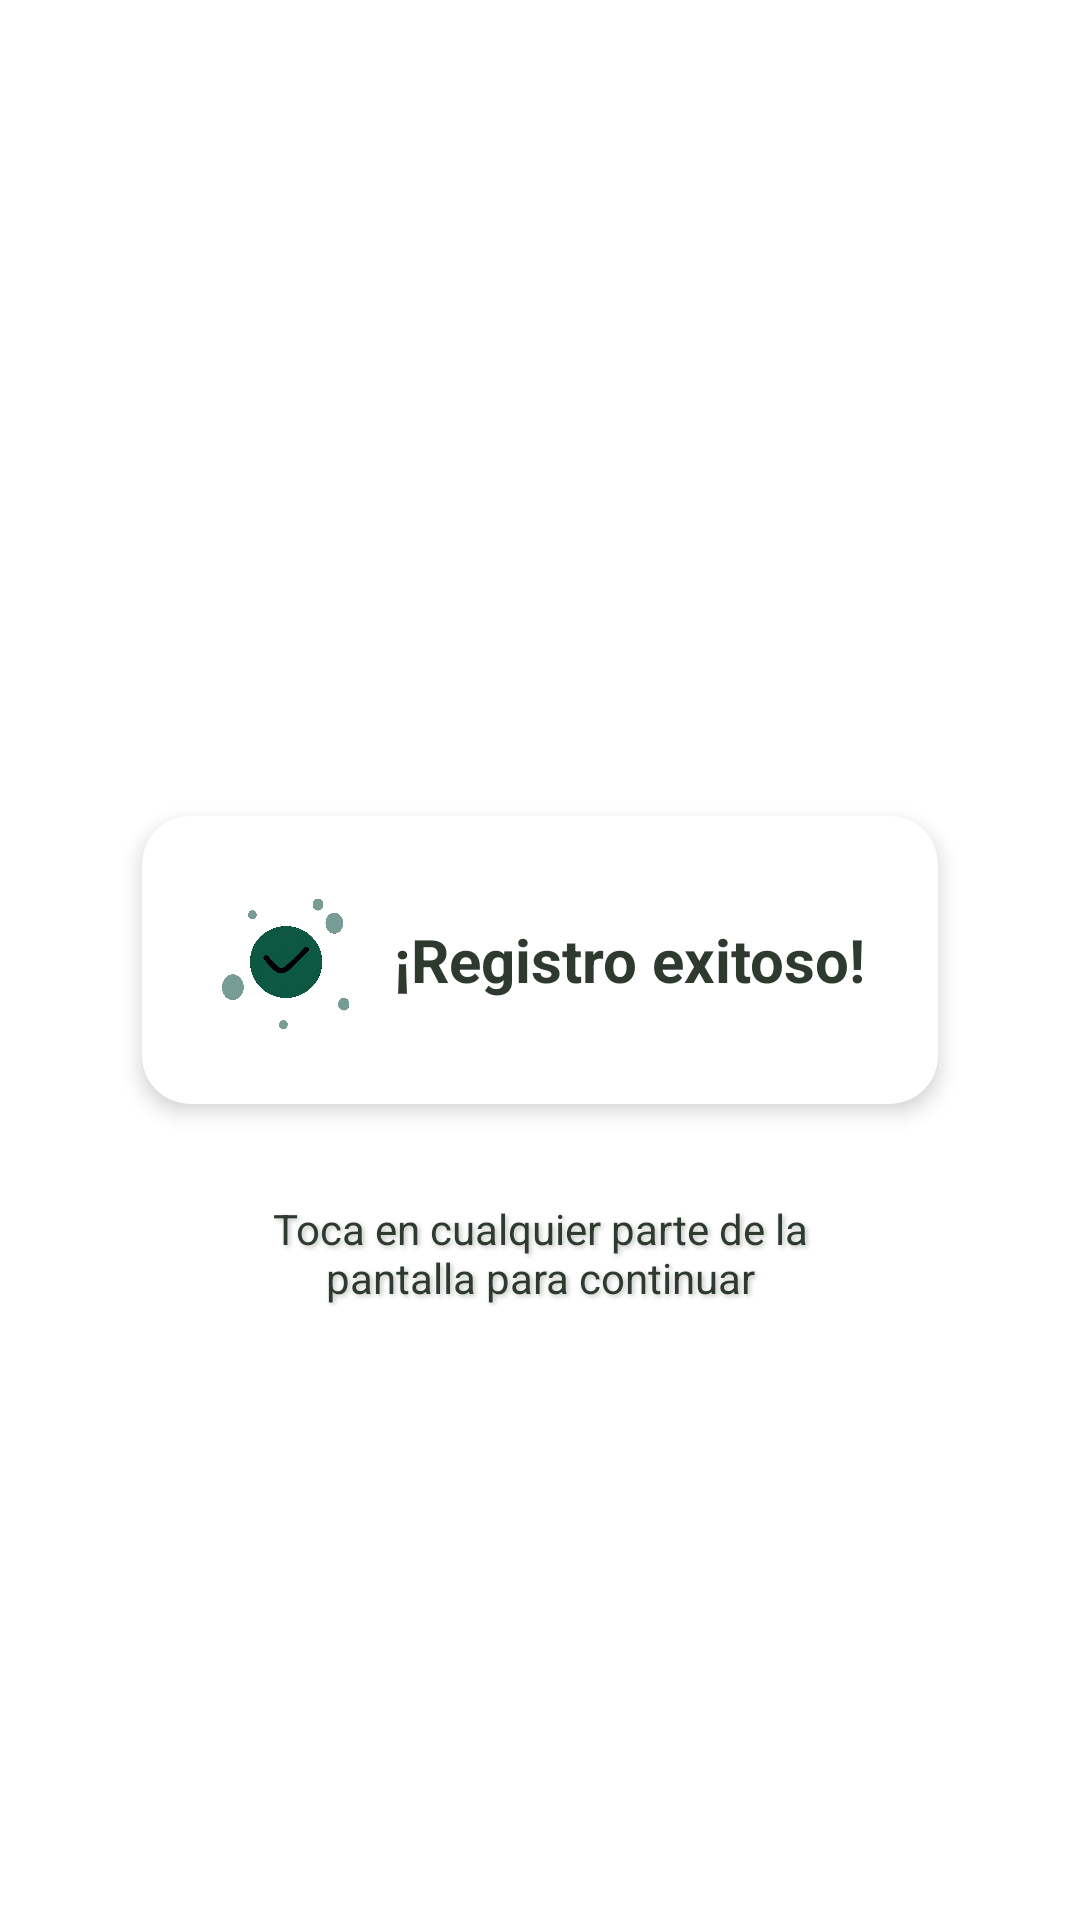

Where icons sit on this 1080 × 1920 app screen, as (x1, y1, x2, y2):
reg exitoso: (222, 899, 349, 1029)
